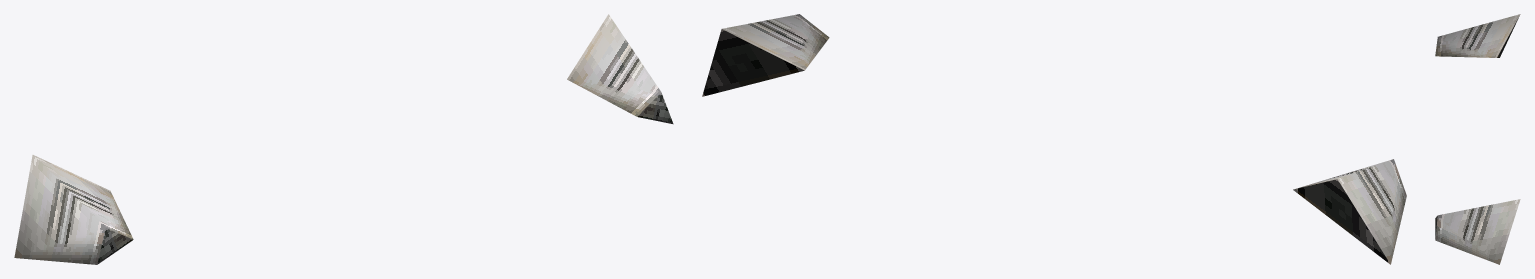
Rendered from hutt_fighter_light_weapon_s01_l3.fbx.
3 views of the same model, side by side, from view 1: azimuth 30°, elevation 25°; view 2: azimuth 150°, elevation 25°; view 3: azimuth 270°, elevation 25° (orthographic). The views are drawn at different scales.
Parts seen in each view (by area): view 1: mesh_node; view 2: mesh_node; view 3: mesh_node.
Part boxes in pixels (<box>): mesh_node: <box>14,14,673,264</box>; mesh_node: <box>702,14,1406,264</box>; mesh_node: <box>1435,14,1520,264</box>.
Bounding box in the file's own units: 3.83 × 0.4749 × 0.667.
